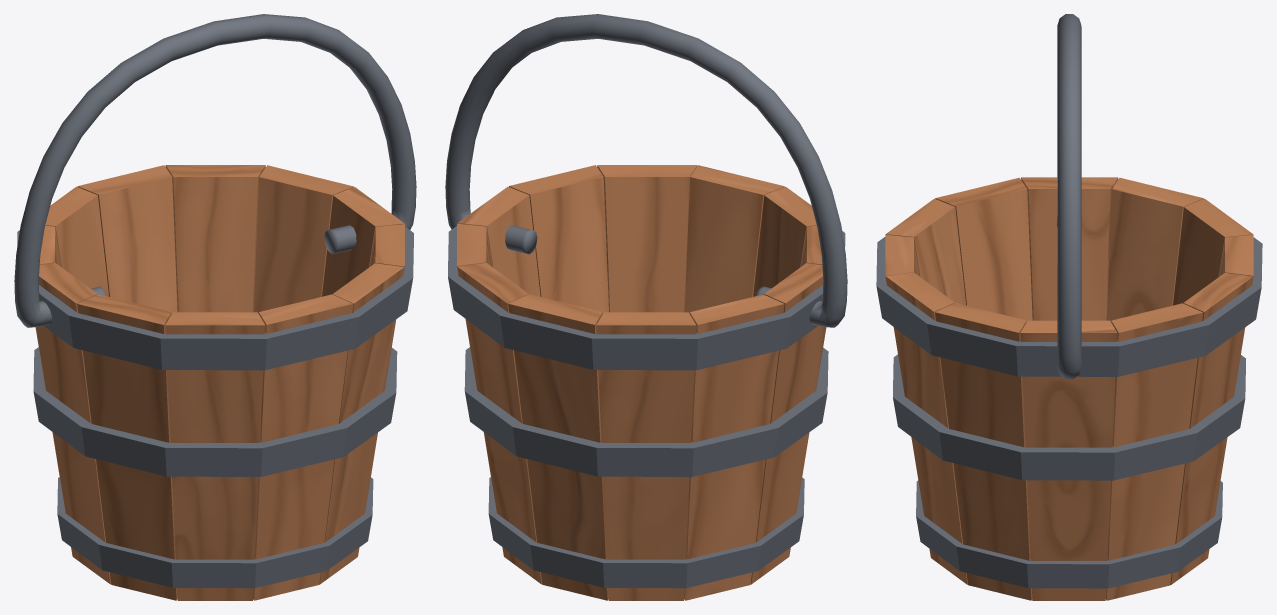
The model's file is Buscket.fbx.
The picture shows the model from 3 angles, left to right: view 1: azimuth 30°, elevation 25°; view 2: azimuth 150°, elevation 25°; view 3: azimuth 270°, elevation 25°; orthographic projection. The views are drawn at different scales.
Parts seen in each view (by area): view 1: Cube.063, BézierCurve, Cylinder.010, Cylinder.009, Cylinder.008; view 2: Cube.063, BézierCurve, Cylinder.010, Cylinder.009, Cylinder.008; view 3: Cube.063, Cylinder.010, Cylinder.009, Cylinder.008, BézierCurve.
Part boxes in pixels (bbox=[...]): Cube.063: bbox=[35, 165, 405, 600]; BézierCurve: bbox=[14, 14, 416, 327]; Cylinder.010: bbox=[17, 226, 413, 370]; Cylinder.009: bbox=[33, 347, 397, 476]; Cylinder.008: bbox=[57, 477, 373, 588]; Cube.063: bbox=[457, 165, 826, 600]; BézierCurve: bbox=[445, 14, 847, 327]; Cylinder.010: bbox=[448, 226, 845, 370]; Cylinder.009: bbox=[464, 347, 828, 476]; Cylinder.008: bbox=[488, 477, 804, 588]; Cube.063: bbox=[885, 177, 1253, 600]; Cylinder.010: bbox=[876, 237, 1262, 376]; Cylinder.009: bbox=[893, 354, 1245, 480]; Cylinder.008: bbox=[916, 480, 1222, 588]; BézierCurve: bbox=[1057, 14, 1081, 379].
Bounding box in the file's own units: 222 × 275 × 192.
2 materials, 1 textured.
